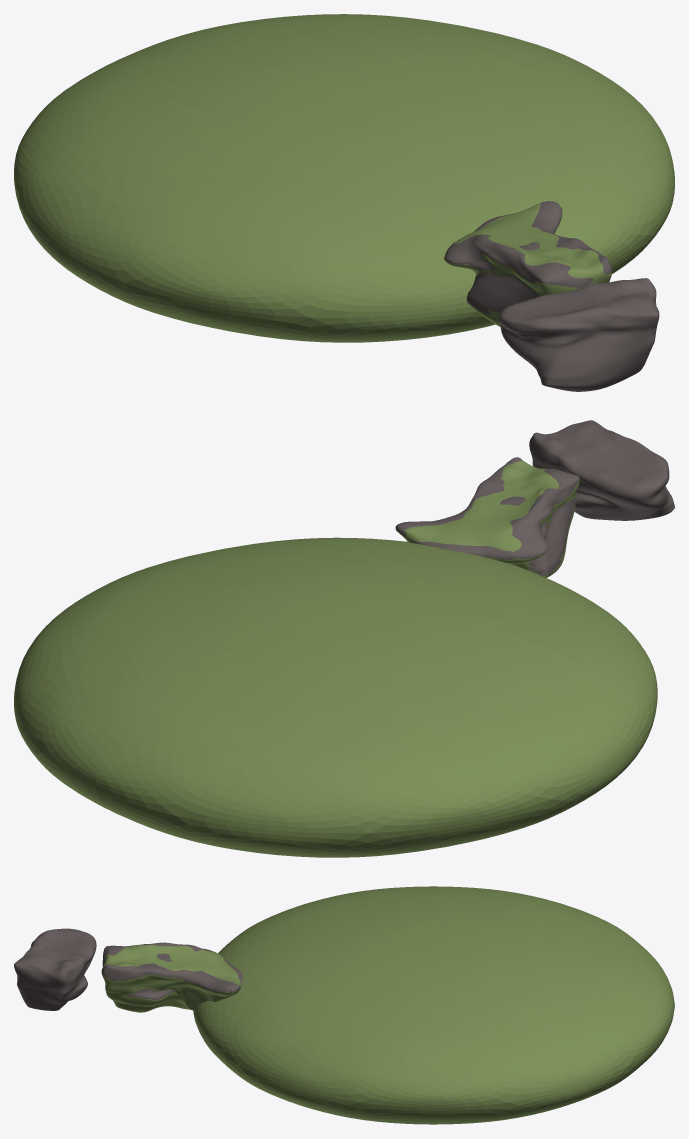
Rendered from Ground.fbx.
The picture shows the model from 3 angles, top to bottom: view 1: azimuth 30°, elevation 25°; view 2: azimuth 150°, elevation 25°; view 3: azimuth 270°, elevation 25°; orthographic projection. The views are drawn at different scales.
Visible parts, largest first — view 1: Icosphere, Cube.015, Cube.025, Cube; view 2: Icosphere, Cube.015, Cube, Cube.025; view 3: Icosphere, Cube, Cube.015, Cube.025.
Boxes of the visible parts, x1,y1,x2,y2 form: Icosphere: [14, 14, 674, 342]; Cube.015: [499, 278, 659, 391]; Cube.025: [444, 201, 611, 315]; Cube: [444, 202, 611, 326]; Icosphere: [14, 537, 657, 857]; Cube.015: [529, 420, 674, 520]; Cube: [395, 460, 579, 577]; Cube.025: [395, 457, 579, 576]; Icosphere: [193, 886, 674, 1124]; Cube: [101, 945, 240, 1012]; Cube.015: [14, 928, 96, 1010]; Cube.025: [101, 942, 242, 999].
Size of the model in its own units: 42876 by 12146 by 58773.
